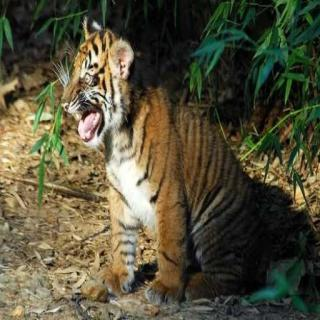Tiger: (46, 0, 314, 309)
